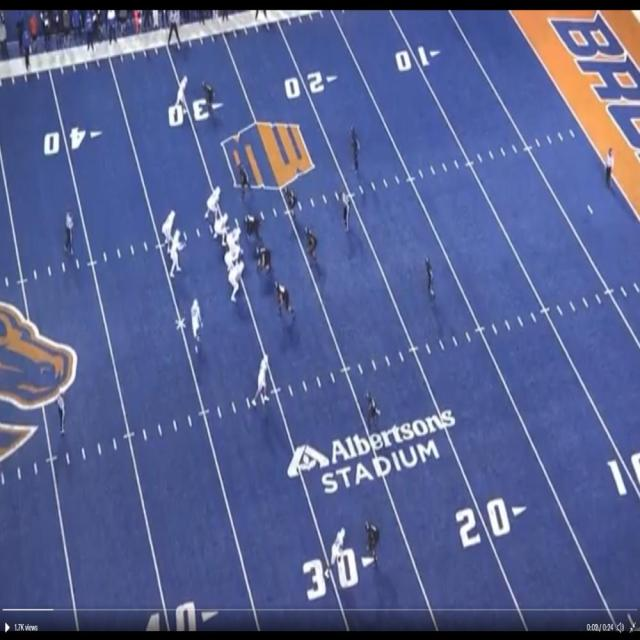center: (223, 228, 246, 254)
db: (364, 521, 381, 565), (367, 393, 379, 432), (202, 81, 215, 112), (351, 126, 359, 172), (426, 257, 434, 300)
lb: (306, 227, 316, 257), (286, 188, 296, 216)
qb: (172, 228, 184, 270)
skill: (329, 526, 346, 571), (255, 355, 269, 403), (175, 77, 189, 113), (192, 298, 202, 348), (164, 209, 176, 240)
